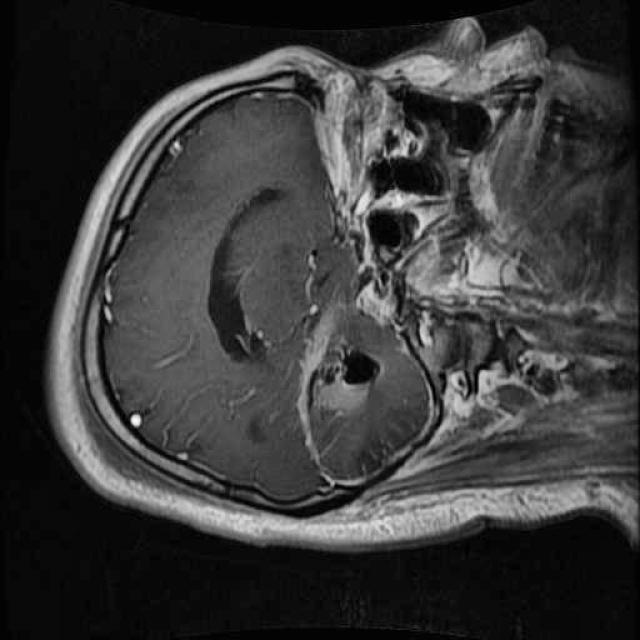Non-Tumor: (280, 306, 405, 446)
